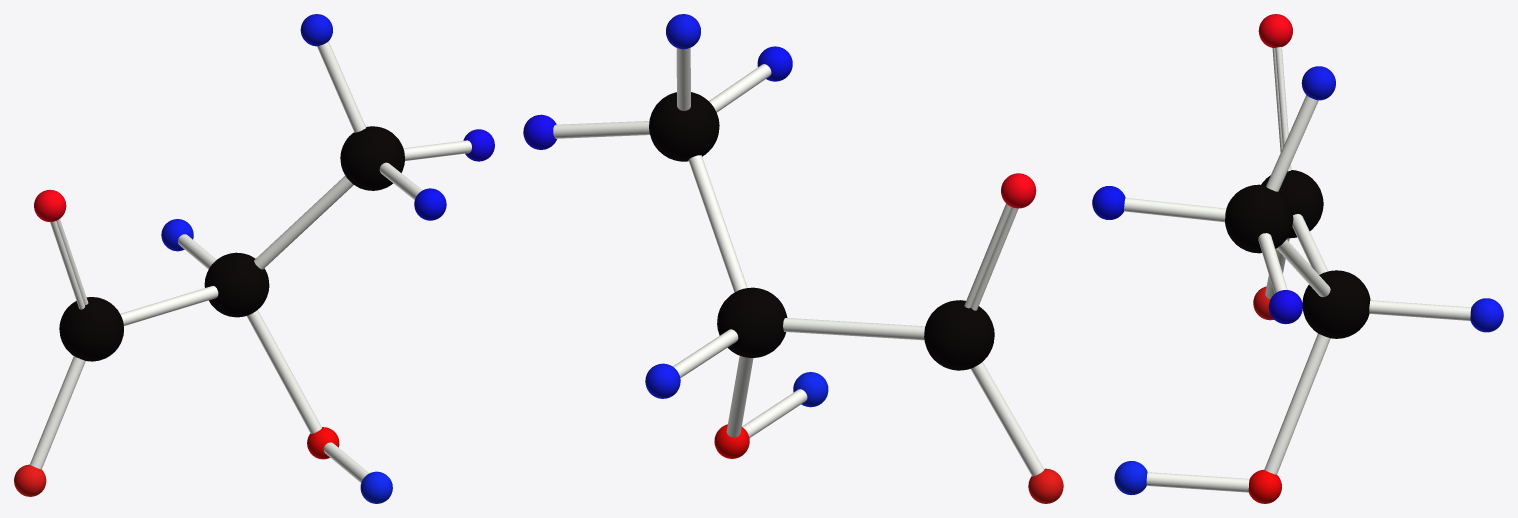
Rendered from lactatemolecule1.fbx.
3 renders of one model, left to right at view 1: azimuth 30°, elevation 25°; view 2: azimuth 150°, elevation 25°; view 3: azimuth 270°, elevation 25°, orthographic. The views are drawn at different scales.
Visible parts, largest first — view 1: Atom6_Clone__2, Atom6_Clone_, Atom6_Clone__1, Bond1_Clone_, Bond1_Clone__3, Bond1_Clone__2, Bond1_Clone__4, Bond1_Clone__7, Bond1_Clone__8, Atom1_Clone__1, Atom1_Clone__4, AtomMissing_Clone__2 (+9 smaller); view 2: Atom6_Clone__2, Atom6_Clone_, Atom6_Clone__1, Bond1_Clone__4, Bond1_Clone__3, Bond1_Clone__2, Bond1_Clone__8, Bond1_Clone_, Bond1_Clone__5, Bond1_Clone__1, Atom1_Clone_, AtomMissing_Clone__2 (+10 smaller); view 3: Atom6_Clone__1, Atom6_Clone_, Bond1_Clone_, Atom6_Clone__2, Bond1_Clone__1, Bond1_Clone__6, Bond1_Clone__5, Bond1_Clone__7, Bond1_Clone__3, Atom1_Clone_, Atom1_Clone__3, AtomMissing_Clone__2 (+7 smaller).
Boxes of the visible parts, bbox=[...] form: Atom6_Clone__2: bbox=[59, 297, 123, 361]; Atom6_Clone_: bbox=[204, 252, 269, 317]; Atom6_Clone__1: bbox=[340, 126, 404, 190]; Bond1_Clone_: bbox=[246, 310, 321, 433]; Bond1_Clone__3: bbox=[254, 175, 353, 269]; Bond1_Clone__2: bbox=[30, 356, 85, 469]; Bond1_Clone__4: bbox=[120, 286, 218, 325]; Bond1_Clone__7: bbox=[317, 41, 366, 132]; Bond1_Clone__8: bbox=[403, 140, 471, 160]; Atom1_Clone__1: bbox=[414, 188, 446, 220]; Atom1_Clone__4: bbox=[360, 471, 392, 503]; AtomMissing_Clone__2: bbox=[34, 189, 66, 221]; Atom6_Clone__2: bbox=[924, 300, 994, 370]; Atom6_Clone_: bbox=[717, 287, 787, 357]; Atom6_Clone__1: bbox=[649, 92, 719, 161]; Bond1_Clone__4: bbox=[783, 318, 925, 340]; Bond1_Clone__3: bbox=[688, 155, 747, 292]; Bond1_Clone__2: bbox=[970, 362, 1044, 476]; Bond1_Clone__8: bbox=[553, 121, 649, 138]; Bond1_Clone_: bbox=[726, 356, 753, 437]; Bond1_Clone__5: bbox=[673, 329, 738, 377]; Bond1_Clone__1: bbox=[742, 389, 807, 437]; Atom1_Clone_: bbox=[645, 363, 680, 398]; AtomMissing_Clone__2: bbox=[1001, 173, 1036, 208]; Atom6_Clone__1: bbox=[1225, 184, 1293, 253]; Atom6_Clone_: bbox=[1302, 270, 1370, 338]; Bond1_Clone_: bbox=[1264, 333, 1330, 474]; Atom6_Clone__2: bbox=[1261, 170, 1323, 238]; Bond1_Clone__1: bbox=[1146, 472, 1249, 492]; Bond1_Clone__6: bbox=[1124, 198, 1226, 222]; Bond1_Clone__5: bbox=[1369, 300, 1471, 320]; Bond1_Clone__7: bbox=[1266, 95, 1318, 191]; Bond1_Clone__3: bbox=[1276, 239, 1330, 296]; Atom1_Clone_: bbox=[1470, 298, 1503, 332]; Atom1_Clone__3: bbox=[1268, 290, 1302, 324]; AtomMissing_Clone__2: bbox=[1258, 14, 1292, 48].
Bounding box in the file's own units: 431 × 356 × 299.
